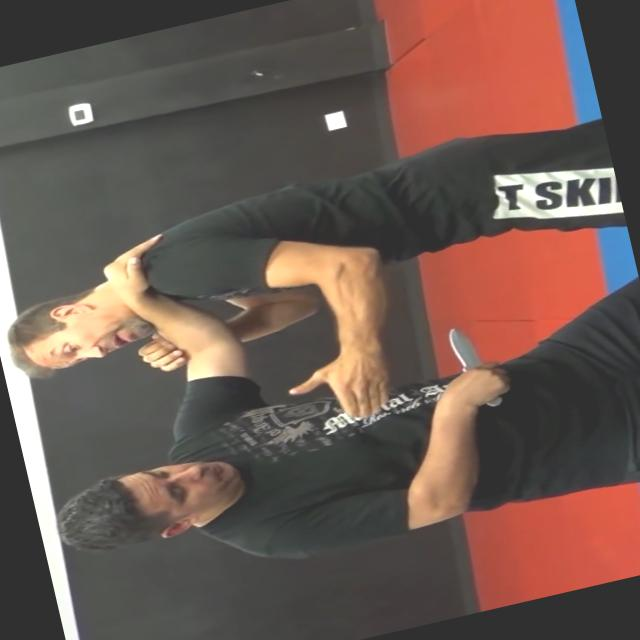knife: (436, 314, 512, 415)
